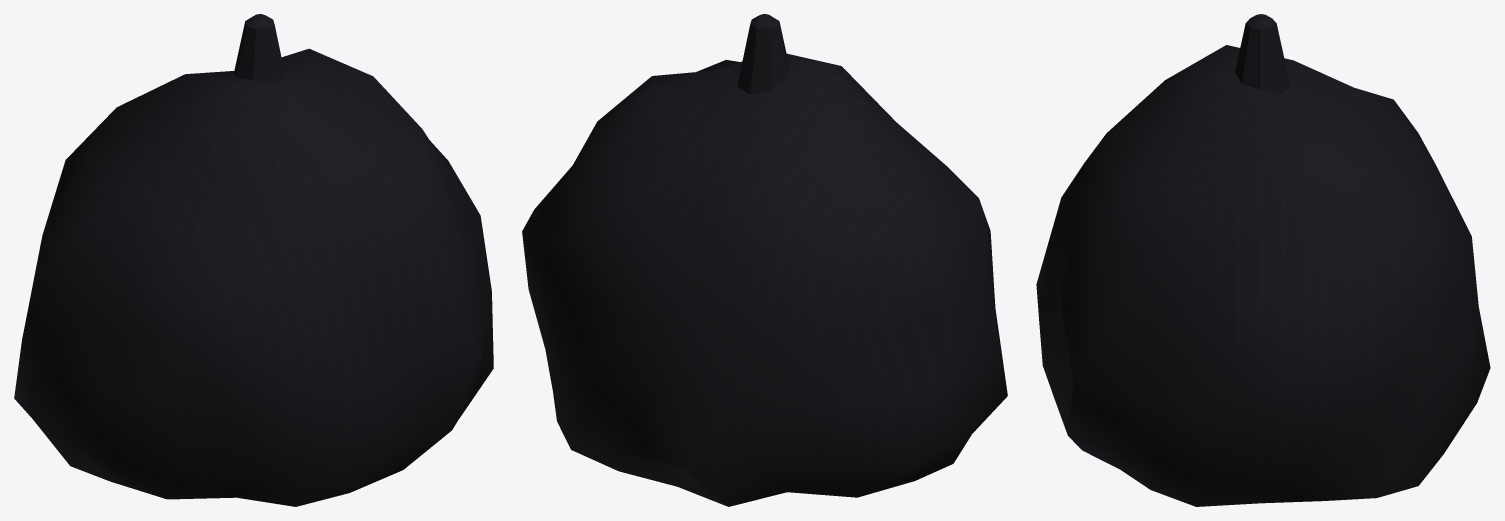
Rendered from kit_garbage_bag.glb.
3 views of the same model, side by side, from view 1: azimuth 30°, elevation 25°; view 2: azimuth 150°, elevation 25°; view 3: azimuth 270°, elevation 25° (orthographic).
Parts seen in each view (by area): view 1: gb_bag, gb_tie; view 2: gb_bag, gb_tie; view 3: gb_bag, gb_tie.
Part boxes in pixels (x1,y1,x2,y2): gb_bag: (14, 48, 493, 506); gb_tie: (233, 14, 285, 81); gb_bag: (522, 53, 1007, 506); gb_tie: (737, 14, 789, 94); gb_bag: (1036, 45, 1490, 506); gb_tie: (1234, 14, 1290, 93).
Size of the model in its own units: 0.7086 by 0.6506 by 0.6474.
1 material, 1 textured.
